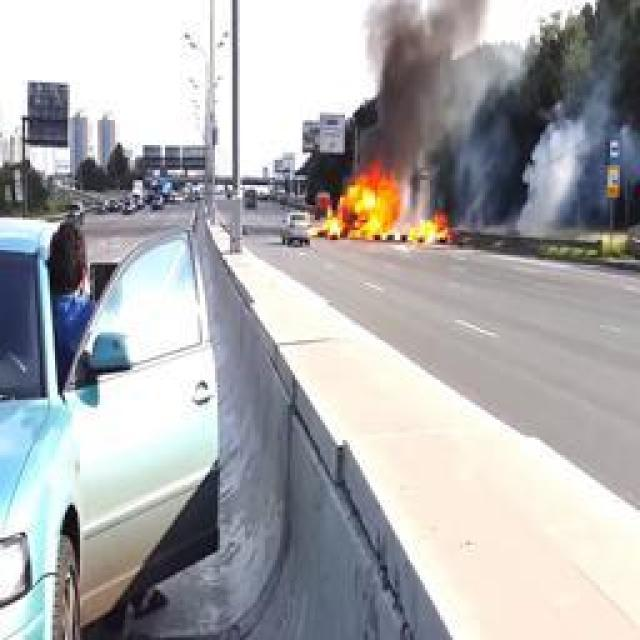Fire: (320, 155, 450, 245)
